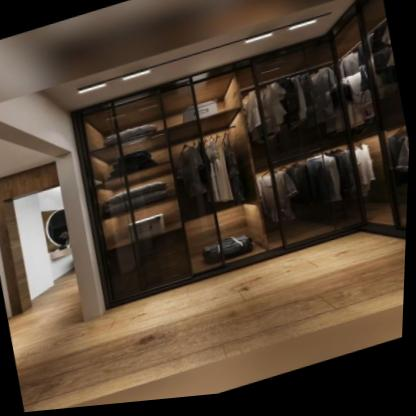Transparent Closet: (72, 0, 411, 312)
